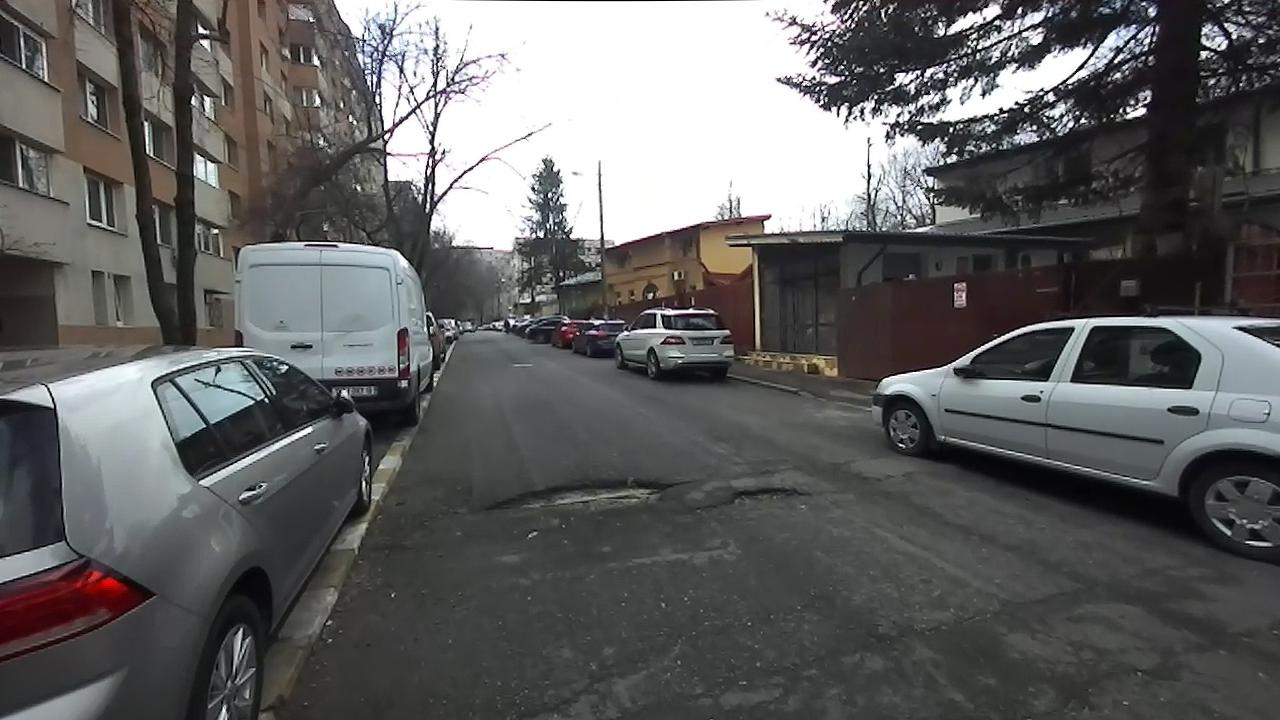pothole: (474, 472, 690, 522), (694, 482, 814, 516)
